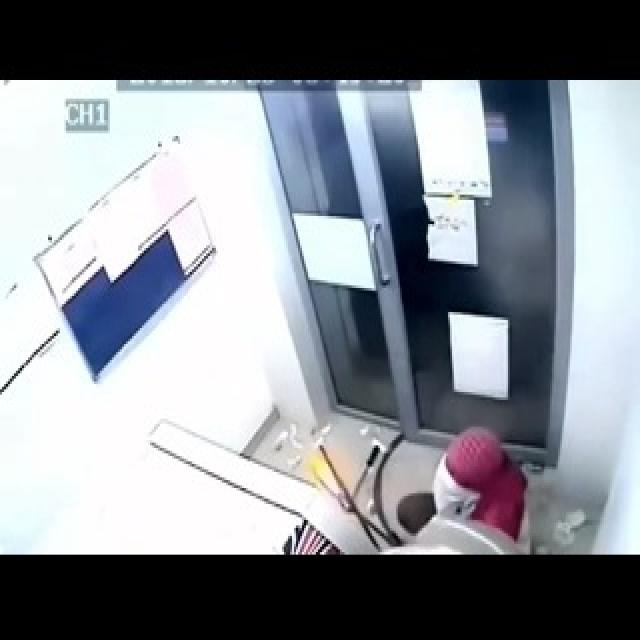thief: (411, 418, 556, 548)
